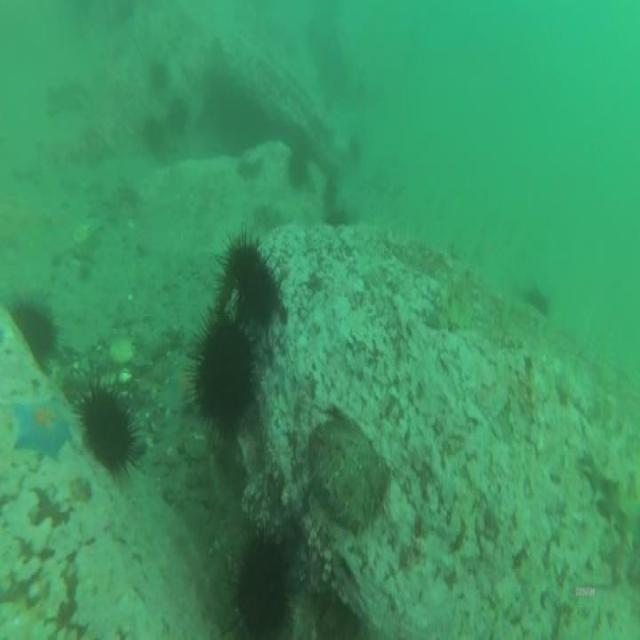echinus: (185, 307, 258, 428), (221, 521, 295, 640), (72, 381, 145, 485), (213, 223, 279, 329), (4, 292, 64, 386), (523, 282, 553, 326), (163, 92, 191, 139), (284, 147, 312, 193), (140, 112, 166, 153), (147, 58, 173, 94), (324, 202, 348, 231), (346, 130, 364, 168), (320, 174, 340, 208)
holothurian: (578, 438, 640, 554), (553, 596, 640, 640), (433, 267, 476, 335)
starfish: (8, 394, 76, 466), (163, 358, 208, 424)
